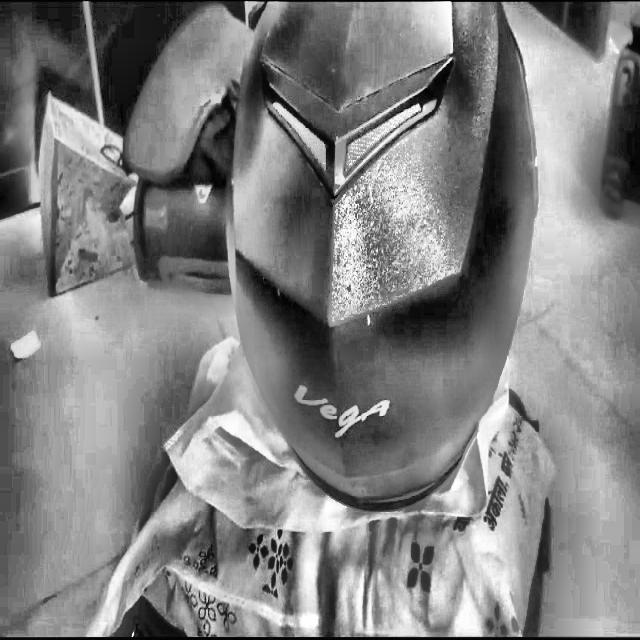Helmet: (222, 0, 542, 514)
